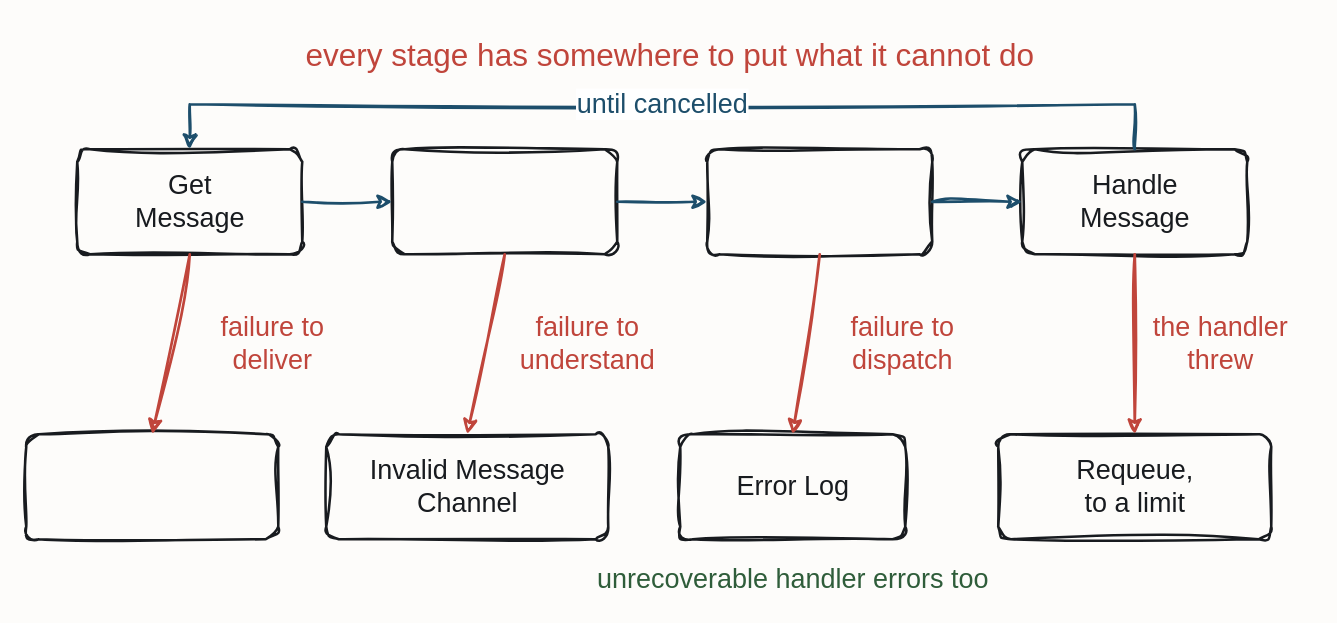
This 1337x623 diagram has some shape labels left out. Here are the shapes that lost their labels. From the top down, the centre of each, then its label:
At point 504,201: "Translate Message".
At point 819,201: "Dispatch Message".
At point 151,486: "Dead Letter Channel".
